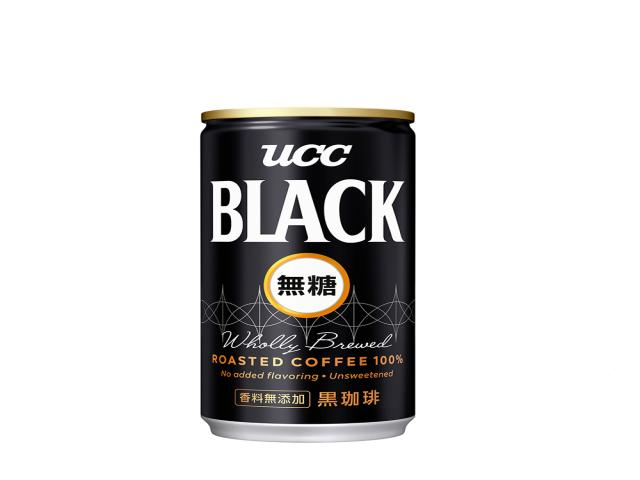Canned_drinks: (201, 107, 415, 442)
